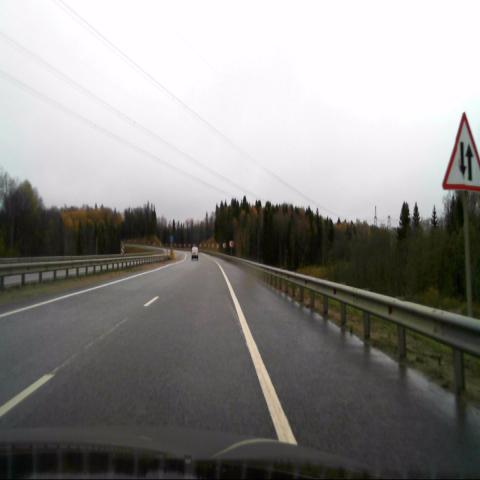1_21: (442, 111, 480, 193)
